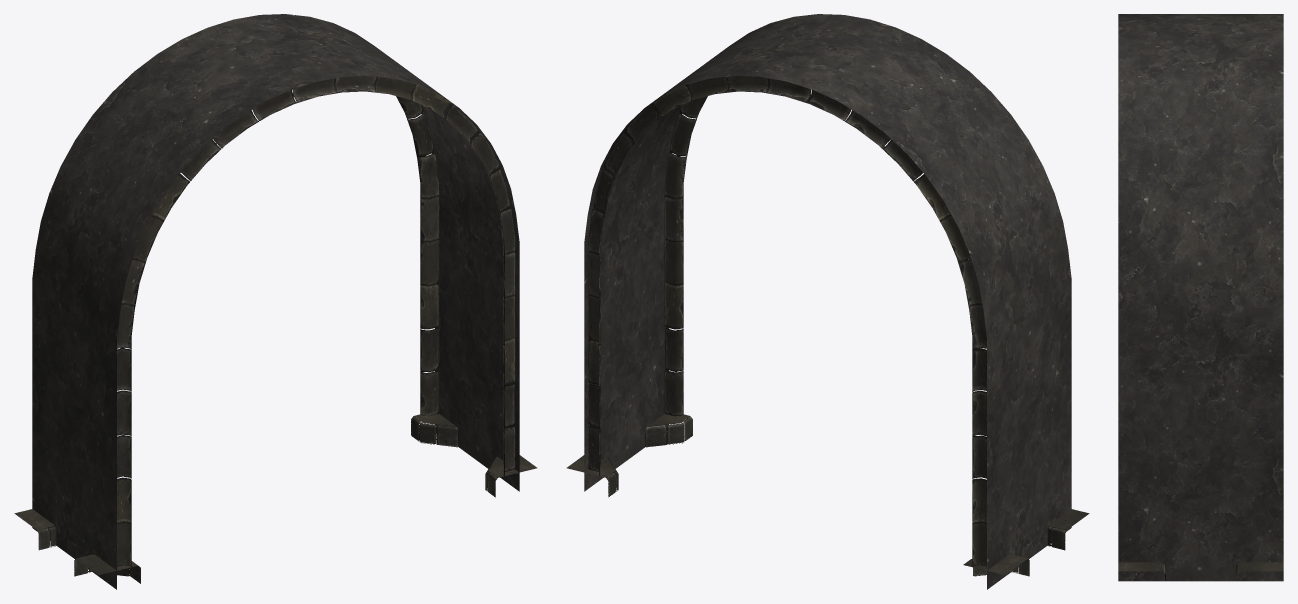
3 renders of one model, left to right at view 1: azimuth 30°, elevation 25°; view 2: azimuth 150°, elevation 25°; view 3: azimuth 270°, elevation 25°, orthographic. The views are drawn at different scales.
Visible parts, largest first — view 1: SM_Dowdun_Vaulted_Tunnel_12x4_01_LOD0; view 2: SM_Dowdun_Vaulted_Tunnel_12x4_01_LOD0; view 3: SM_Dowdun_Vaulted_Tunnel_12x4_01_LOD0.
Part boxes in pixels (bbox=[...]): SM_Dowdun_Vaulted_Tunnel_12x4_01_LOD0: bbox=[14, 14, 537, 589]; SM_Dowdun_Vaulted_Tunnel_12x4_01_LOD0: bbox=[566, 14, 1089, 589]; SM_Dowdun_Vaulted_Tunnel_12x4_01_LOD0: bbox=[1118, 14, 1283, 581].
Size of the model in its own units: 12 by 12 by 4.
Materials: 2 (2 with a texture image).
